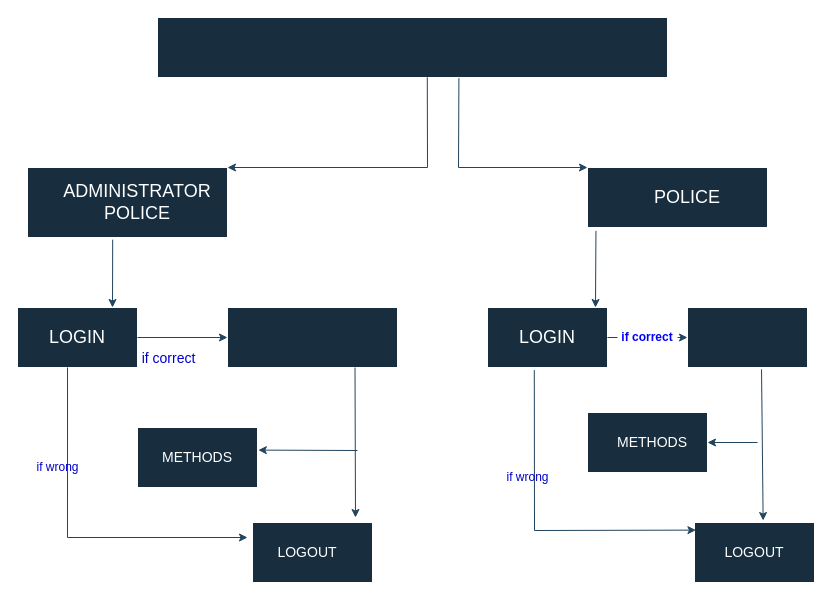
Image size: 832x600. Some labels were removed from this diagram. Here are the shapes that lost their labels. From the top down, the box of each, then its label:
(156, 16, 668, 78): CRIME INFORMATION MANAGEMENT SYSTEM
(226, 306, 398, 368): ADMINISTRATOR_POLICE INTERFACE
(686, 306, 808, 368): POLICE INTERFACE
